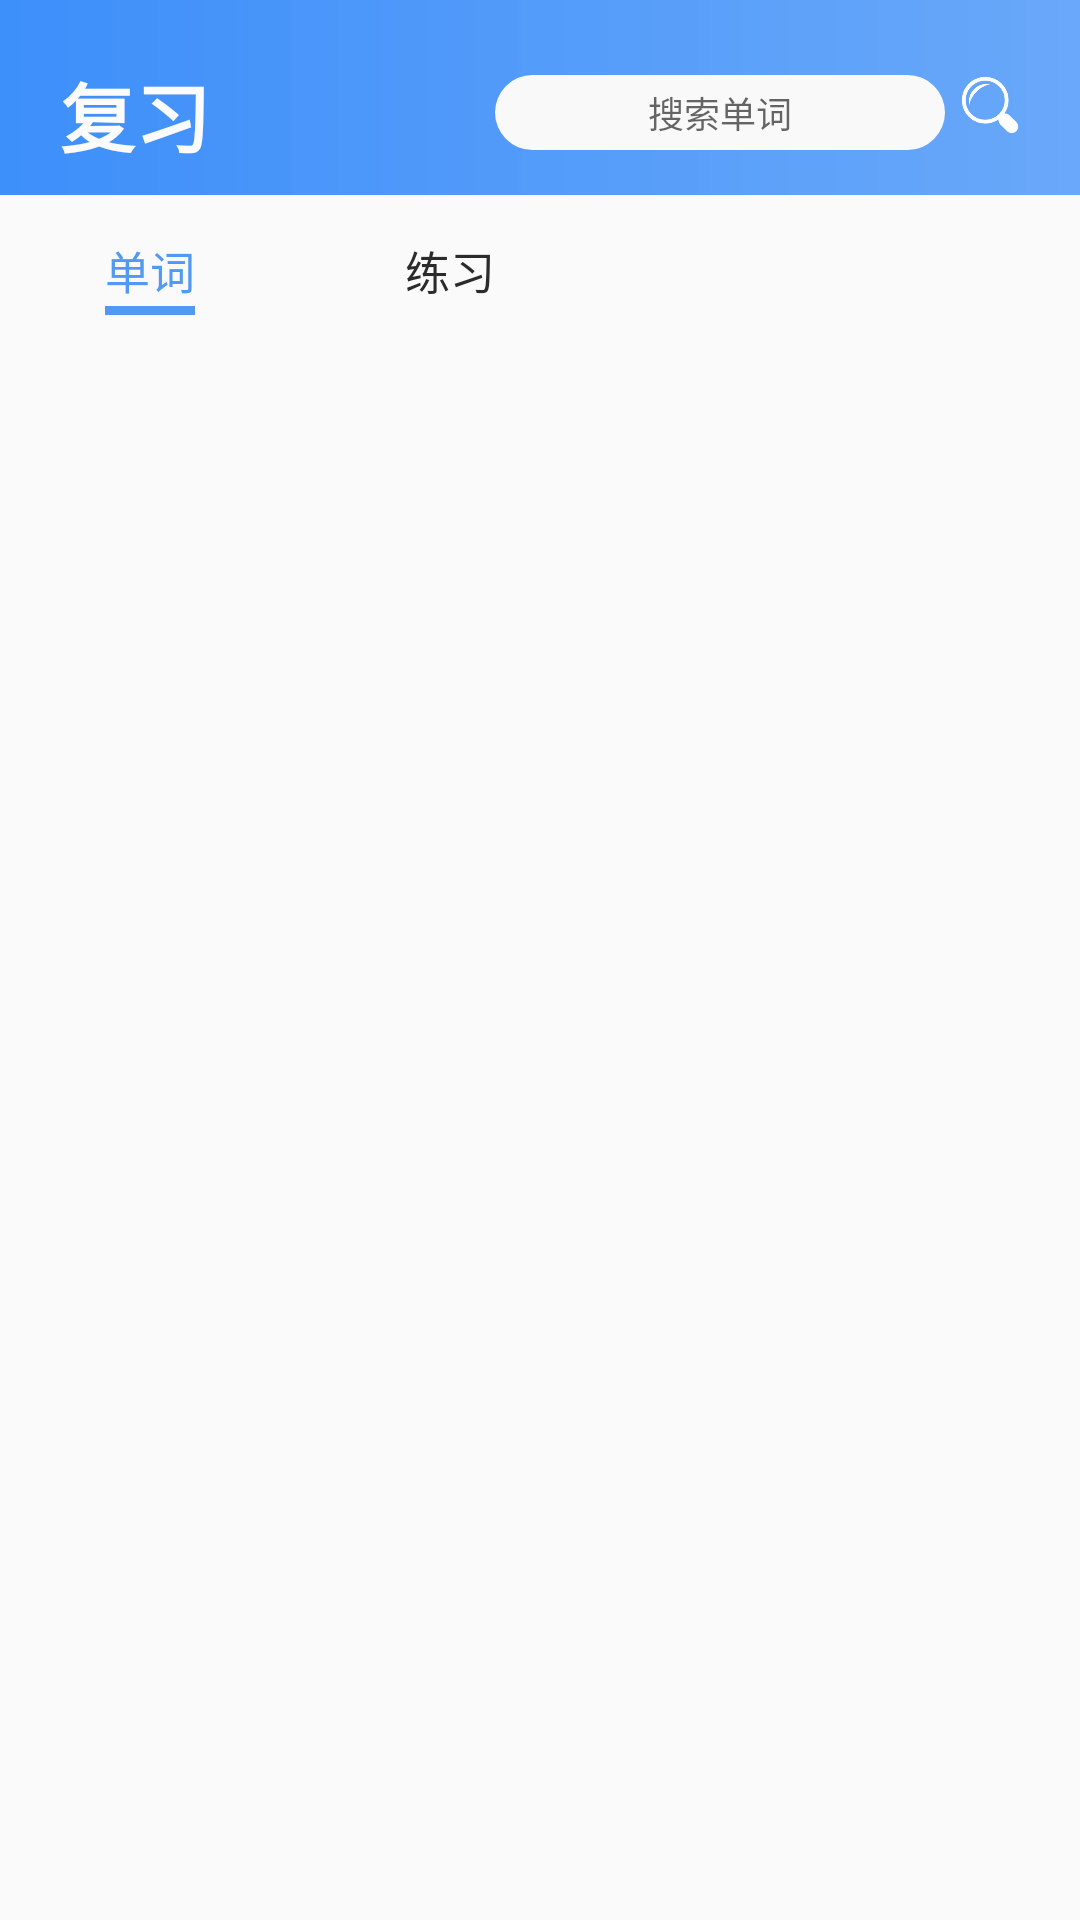

Where icons sit on this 1080px x 1920px app screen, as (x1, y1, x2, y2):
review search: (962, 77, 1018, 133)
